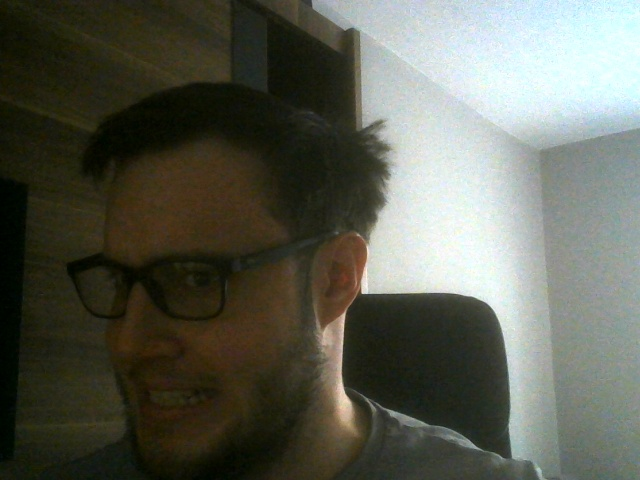angry: (68, 85, 367, 474)
